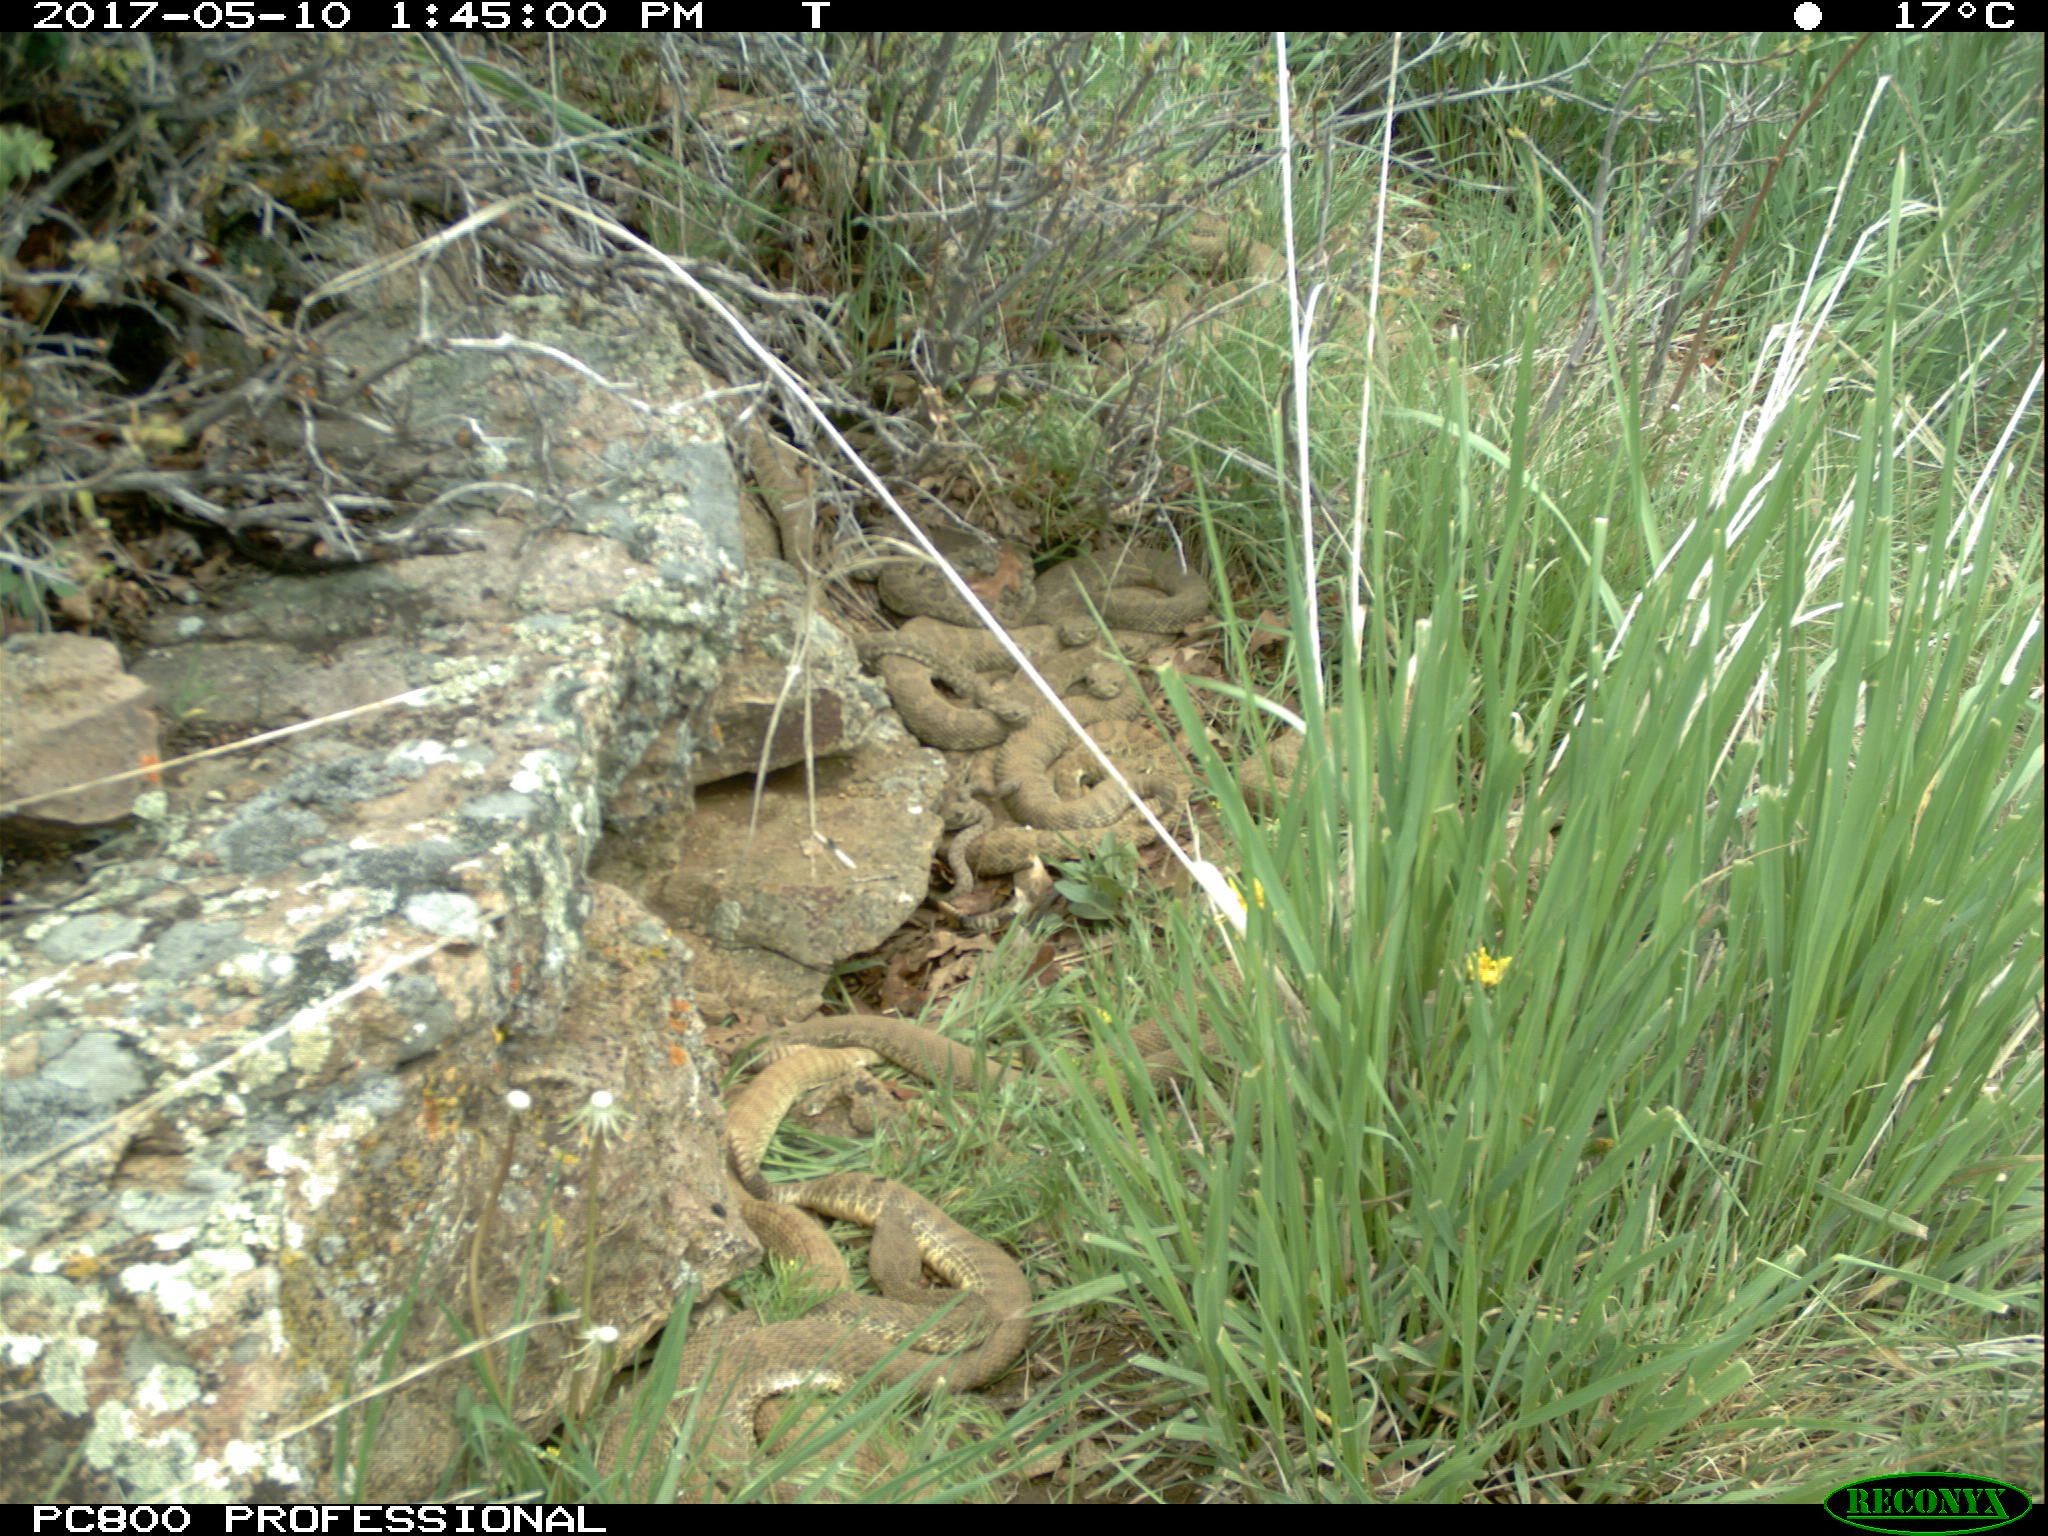snake: (701, 1079, 1039, 1384), (734, 1016, 1271, 1102), (585, 1376, 955, 1501), (971, 652, 1192, 841), (877, 611, 1050, 737), (1026, 537, 1208, 649), (1226, 708, 1376, 815), (863, 537, 1032, 618), (727, 428, 822, 568), (947, 813, 1174, 865)
